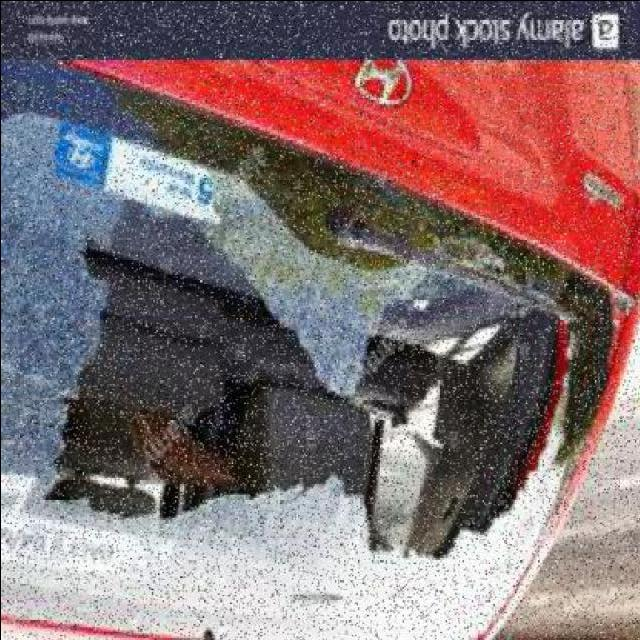Rear-windscreen-Damage: (2, 106, 640, 640)
